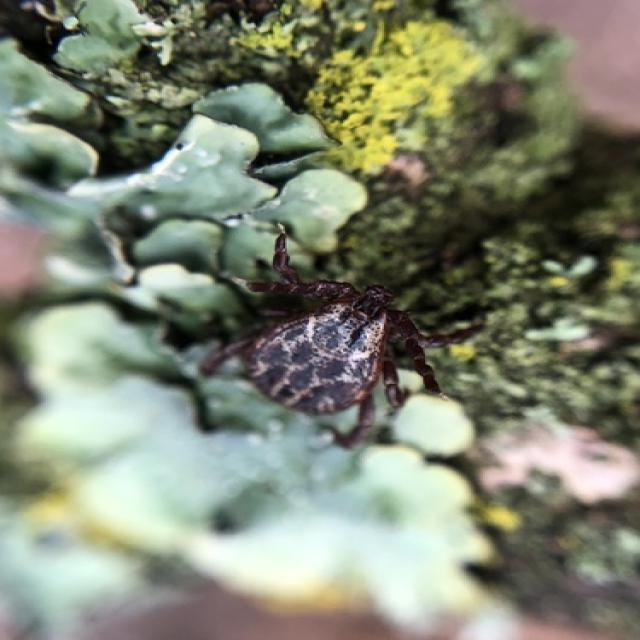Dermacentor Reticulatus-M: (200, 232, 439, 449)
